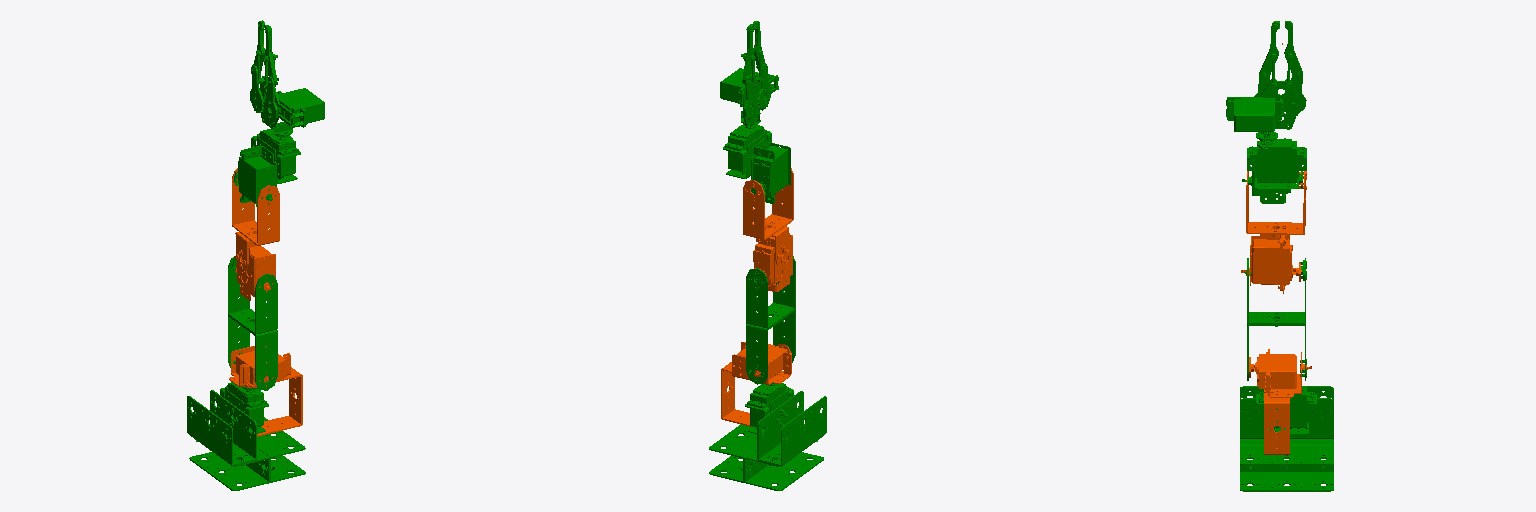
The robot description file, URDF, robot "robotarm":
<?xml version="1.0" ?>
<robot name="robotarm">

  <material name="green">
    <color rgba="0 0.6 0 1" />
  </material>
  <material name="orange">
    <color rgba="1.0 0.4 0.0 1.0"/>
  </material>

  <link name="base_link">
    <inertial>
      <origin xyz="0.0 0.0 0.0" rpy="0.0 0.0 0.0"/>
      <mass value="1.0"/>
      <inertia ixx="1.0" ixy="0.0" ixz="0.0" iyy="1.0" iyz="0.0" izz="1.0"/>
    </inertial>
    <visual>
      <origin xyz="0.0 0.0 0.0" rpy="0.0 0.0 0.0"/>
      <geometry>
        <mesh filename="package://robotarm/meshes/base_link.stl" scale="0.01 0.01 0.01"/>
      </geometry>
      <material name="green"/>
    </visual>
    <collision>
      <origin xyz="0.0 0.0 0.0" rpy="0.0 0.0 0.0"/>
      <geometry>
        <mesh filename="package://robotarm/meshes/base_link.stl" scale="0.01 0.01 0.01"/>
      </geometry>
    </collision>
  </link>

  <link name="link1">
    <inertial>
      <origin xyz="0.03 -0.01 -0.54" rpy="0.0 0.0 0.0"/>
      <mass value="1.0"/>
      <inertia ixx="1.0" ixy="0.0" ixz="0.0" iyy="1.0" iyz="0.0" izz="1.0"/>
    </inertial>
    <visual>
      <origin xyz="0.03 -0.01 -0.54" rpy="0.0 0.0 0.0"/>
      <geometry>
        <mesh filename="package://robotarm/meshes/link1.stl" scale="0.01 0.01 0.01"/>
      </geometry>
      <material name="orange"/>
    </visual>
    <collision>
      <origin xyz="0.03 -0.01 -0.54" rpy="0.0 0.0 0.0"/>
      <geometry>
        <mesh filename="package://robotarm/meshes/link1.stl" scale="0.01 0.01 0.01"/>
      </geometry>
    </collision>
  </link>

  <link name="link2">
    <inertial>
      <origin xyz="-0.01 0.28 -0.01" rpy="0.0 0.0 0.0"/>
      <mass value="1.0"/>
      <inertia ixx="1.0" ixy="0.0" ixz="0.0" iyy="1.0" iyz="0.0" izz="1.0"/>
    </inertial>
    <visual>
      <origin xyz="-0.01 0.28 -0.01" rpy="0.0 0.0 0.0"/>
      <geometry>
        <mesh filename="package://robotarm/meshes/link2.stl" scale="0.01 0.01 0.01"/>
      </geometry>
      <material name="green"/>
    </visual>
    <collision>
      <origin xyz="-0.01 0.28 -0.01" rpy="0.0 0.0 0.0"/>
      <geometry>
        <mesh filename="package://robotarm/meshes/link2.stl" scale="0.01 0.01 0.01"/>
      </geometry>
    </collision>
  </link>

  <link name="link3">
    <inertial>
      <origin xyz="-0.02 -0.27 -0.19" rpy="0.0 0.0 0.0"/>
      <mass value="1.0"/>
      <inertia ixx="1.0" ixy="0.0" ixz="0.0" iyy="1.0" iyz="0.0" izz="1.0"/>
    </inertial>
    <visual>
      <origin xyz="-0.02 -0.27 -0.19" rpy="0.0 0.0 0.0"/>
      <geometry>
        <mesh filename="package://robotarm/meshes/link3.stl" scale="0.01 0.01 0.01"/>
      </geometry>
      <material name="orange"/>
    </visual>
    <collision>
      <origin xyz="-0.02 -0.27 -0.19" rpy="0.0 0.0 0.0"/>
      <geometry>
        <mesh filename="package://robotarm/meshes/link3.stl" scale="0.01 0.01 0.01"/>
      </geometry>
    </collision>
  </link>

  <link name="link4">
    <inertial>
      <origin xyz="0.12 -0.3 -0.18" rpy="0.0 0.0 0.0"/>
      <mass value="1.0"/>
      <inertia ixx="1.0" ixy="0.0" ixz="0.0" iyy="1.0" iyz="0.0" izz="1.0"/>
    </inertial>
    <visual>
      <origin xyz="0.12 -0.3 -0.18" rpy="0.0 0.0 0.0"/>
      <geometry>
        <mesh filename="package://robotarm/meshes/link4.stl" scale="0.01 0.01 0.01"/>
      </geometry>
      <material name="green"/>
    </visual>
    <collision>
      <origin xyz="0.12 -0.3 -0.18" rpy="0.0 0.0 0.0"/>
      <geometry>
        <mesh filename="package://robotarm/meshes/link4.stl" scale="0.01 0.01 0.01"/>
      </geometry>
    </collision>
  </link>

  <link name="end_effector">
    <visual>
      <origin xyz="0.0 0.0 0.0" rpy="0.0 0.0 0.0"/>
      <geometry>
        <box size="0.01 0.01 0.01"/>
      </geometry>
    </visual>
  </link>

  <joint name="base_joint" type="revolute">
    <origin xyz="0.02 -0.07 0.94" rpy="0.0 0.0 0.0"/>
    <parent link="base_link"/>
    <child link="link1"/>
    <axis xyz="0 0 1"/>
    <limit lower="-1.57" upper="1.57" effort="0.92" velocity="5.24"/>
  </joint>

  <joint name="link1_link2" type="revolute">
    <origin xyz="0.028 -0.28 0.16" rpy="0.0 0.0 0.0"/>
    <parent link="link1"/>
    <child link="link2"/>
    <axis xyz="0.0 1.0 0.0"/>
    <limit lower="-1.57" upper="1.57" effort="0.92" velocity="5.24"/>
  </joint>

  <joint name="link2_link3" type="revolute">
    <origin xyz="0 0.5 1.02" rpy="0.0 0.0 0.0"/>
    <parent link="link2"/>
    <child link="link3"/>
    <axis xyz="0.0 1.0 0.0"/>
    <limit lower="-1.57" upper="1.57" effort="0.92" velocity="5.24"/>
  </joint>


  <joint name="link3_link4" type="revolute">
    <origin xyz="0.05 0.0 0.96" rpy="0.0 0.0 0.0"/>
    <parent link="link3"/>
    <child link="link4"/>
    <axis xyz="0.0 1.0 0.0"/>
    <limit lower="-1.57" upper="1.57" effort="0.92" velocity="5.24"/>
  </joint>


  <joint name="link4_end_effector" type="revolute">
    <origin xyz="0.1 -0.17 1.5" rpy="0.0 0.0 0.0"/>
    <parent link="link4"/>
    <child link="end_effector"/>
    <axis xyz="0 0 1.0"/>
    <limit lower="-1.57" upper="1.57" effort="0.92" velocity="5.24"/>
  </joint>

</robot>

--- Render facts (derived) ---
Views: 3 orthographic renders of the robot side by side, from view 1: azimuth 30°, elevation 25°; view 2: azimuth 150°, elevation 25°; view 3: azimuth 270°, elevation 25°.
Model robotarm with 6 links and 5 joints (5 revolute), rooted at base_link, posed every joint at zero.
Links seen in each view (by area): view 1: base_link, link4, link2, link3, link1; view 2: base_link, link4, link3, link2, link1; view 3: base_link, link4, link1, link3, link2.
Link boxes in pixels (left/top/right/bottom): base_link: left=187, top=382, right=305, bottom=490; link4: left=233, top=20, right=324, bottom=206; link2: left=228, top=257, right=277, bottom=390; link3: left=232, top=168, right=279, bottom=300; link1: left=229, top=346, right=302, bottom=436; base_link: left=709, top=383, right=826, bottom=490; link4: left=720, top=21, right=790, bottom=203; link3: left=743, top=168, right=793, bottom=291; link2: left=746, top=256, right=795, bottom=384; link1: left=721, top=342, right=791, bottom=426; base_link: left=1240, top=386, right=1333, bottom=491; link4: left=1226, top=21, right=1306, bottom=203; link1: left=1249, top=349, right=1311, bottom=454; link3: left=1241, top=171, right=1306, bottom=293; link2: left=1244, top=258, right=1306, bottom=380.
Size in the robot's own frame: 1.05 by 1.03 by 4.83 metres.
5 mesh visuals loaded from 5 distinct referenced files (5 binary STL).